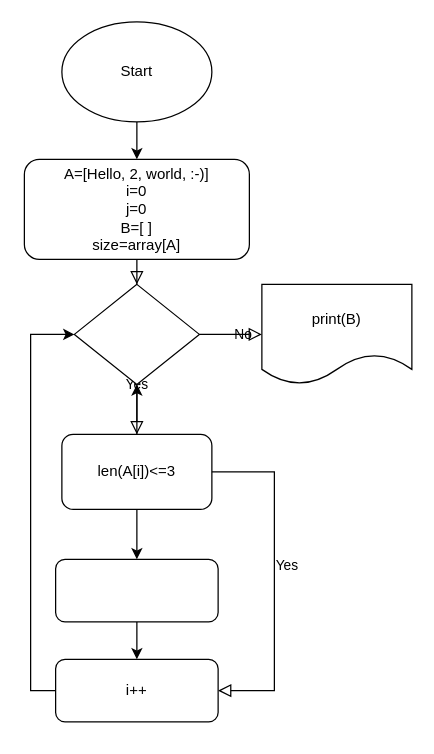
Image size: 434x754. Some labels were removed from this diagram. Each missing label, with the centre of its shape:
"B[j]=A[i] j++" goes at pixel 136 590.
"i<size" goes at pixel 136 333.
